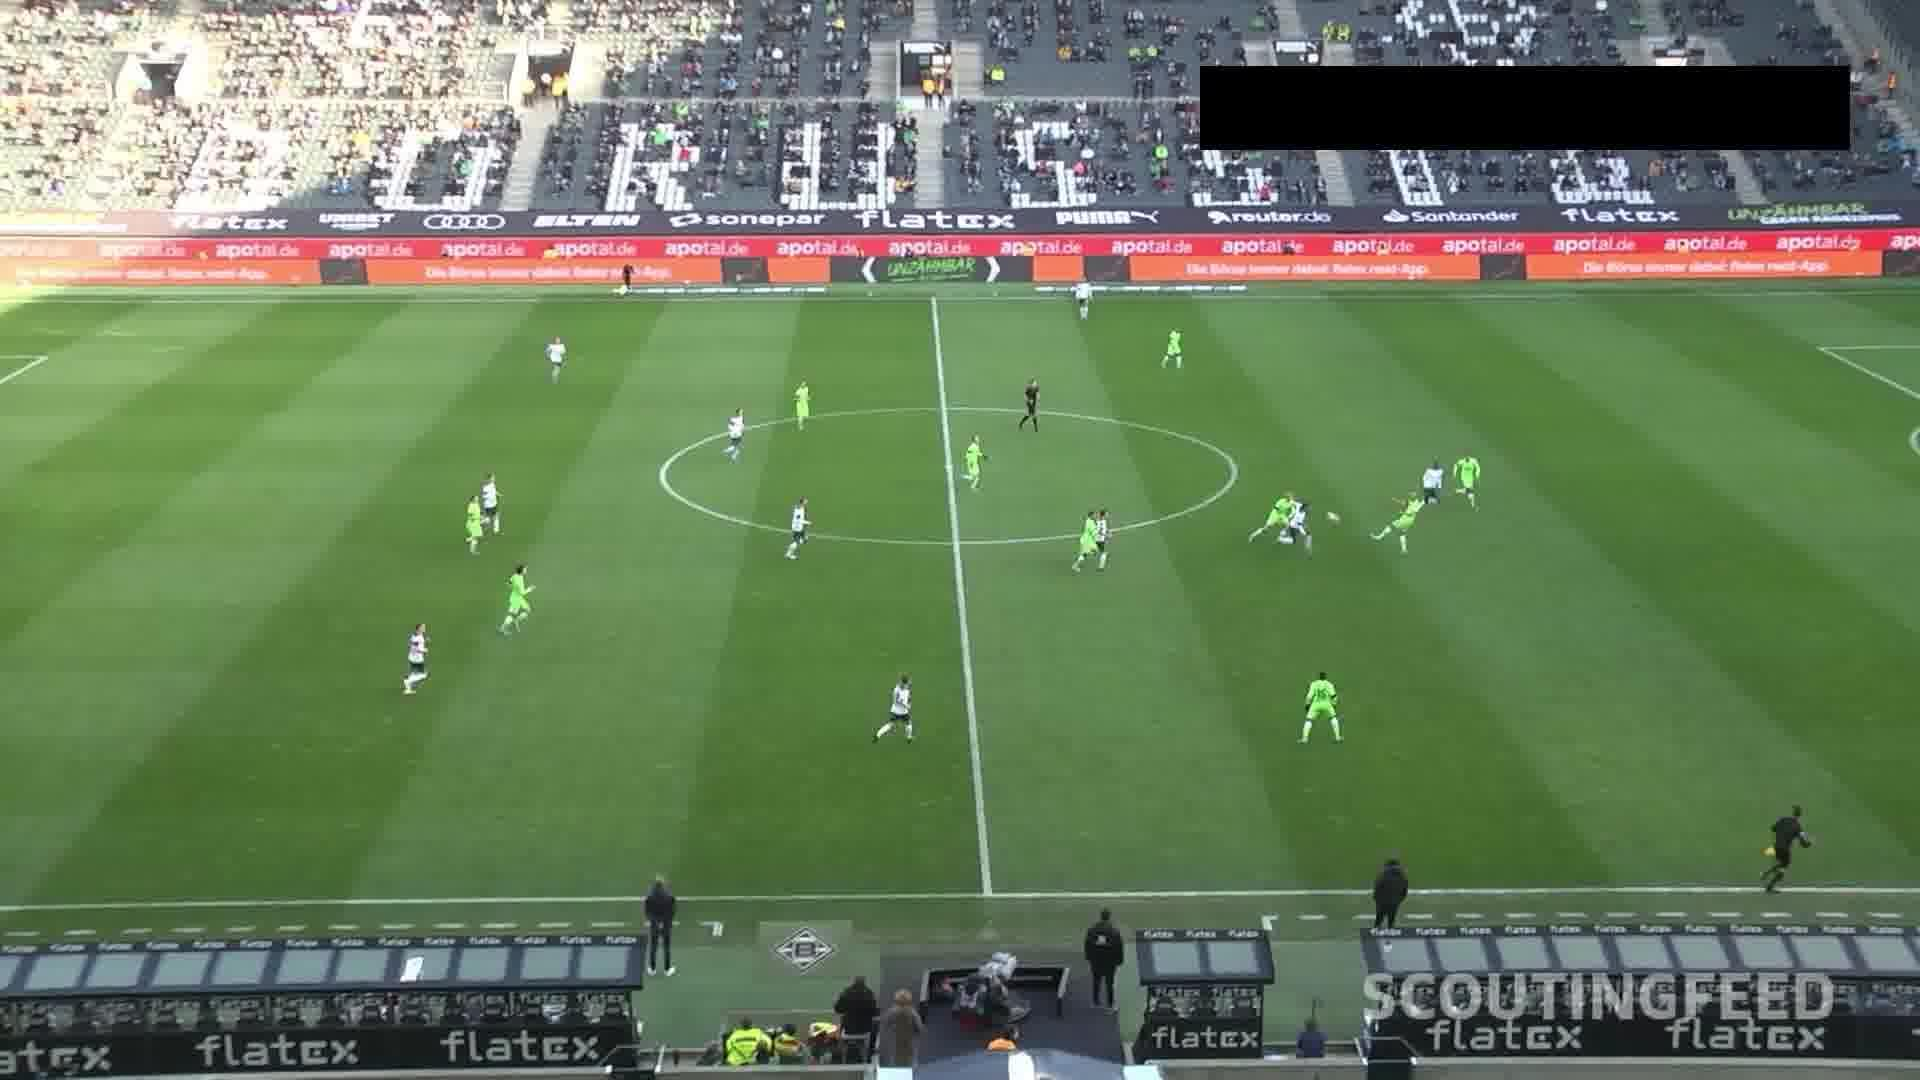football: (1324, 509, 1344, 527)
